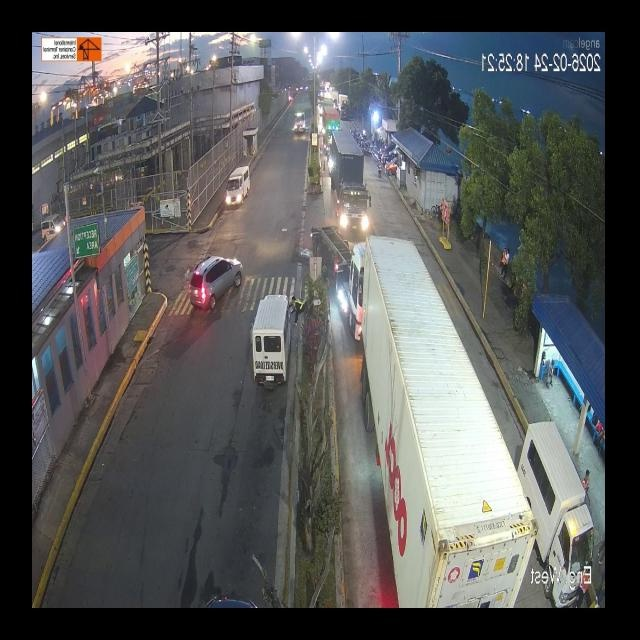car: (185, 246, 251, 324), (244, 294, 292, 398), (224, 164, 252, 212)
truck: (104, 226, 342, 611), (305, 224, 391, 333), (324, 126, 376, 241)
